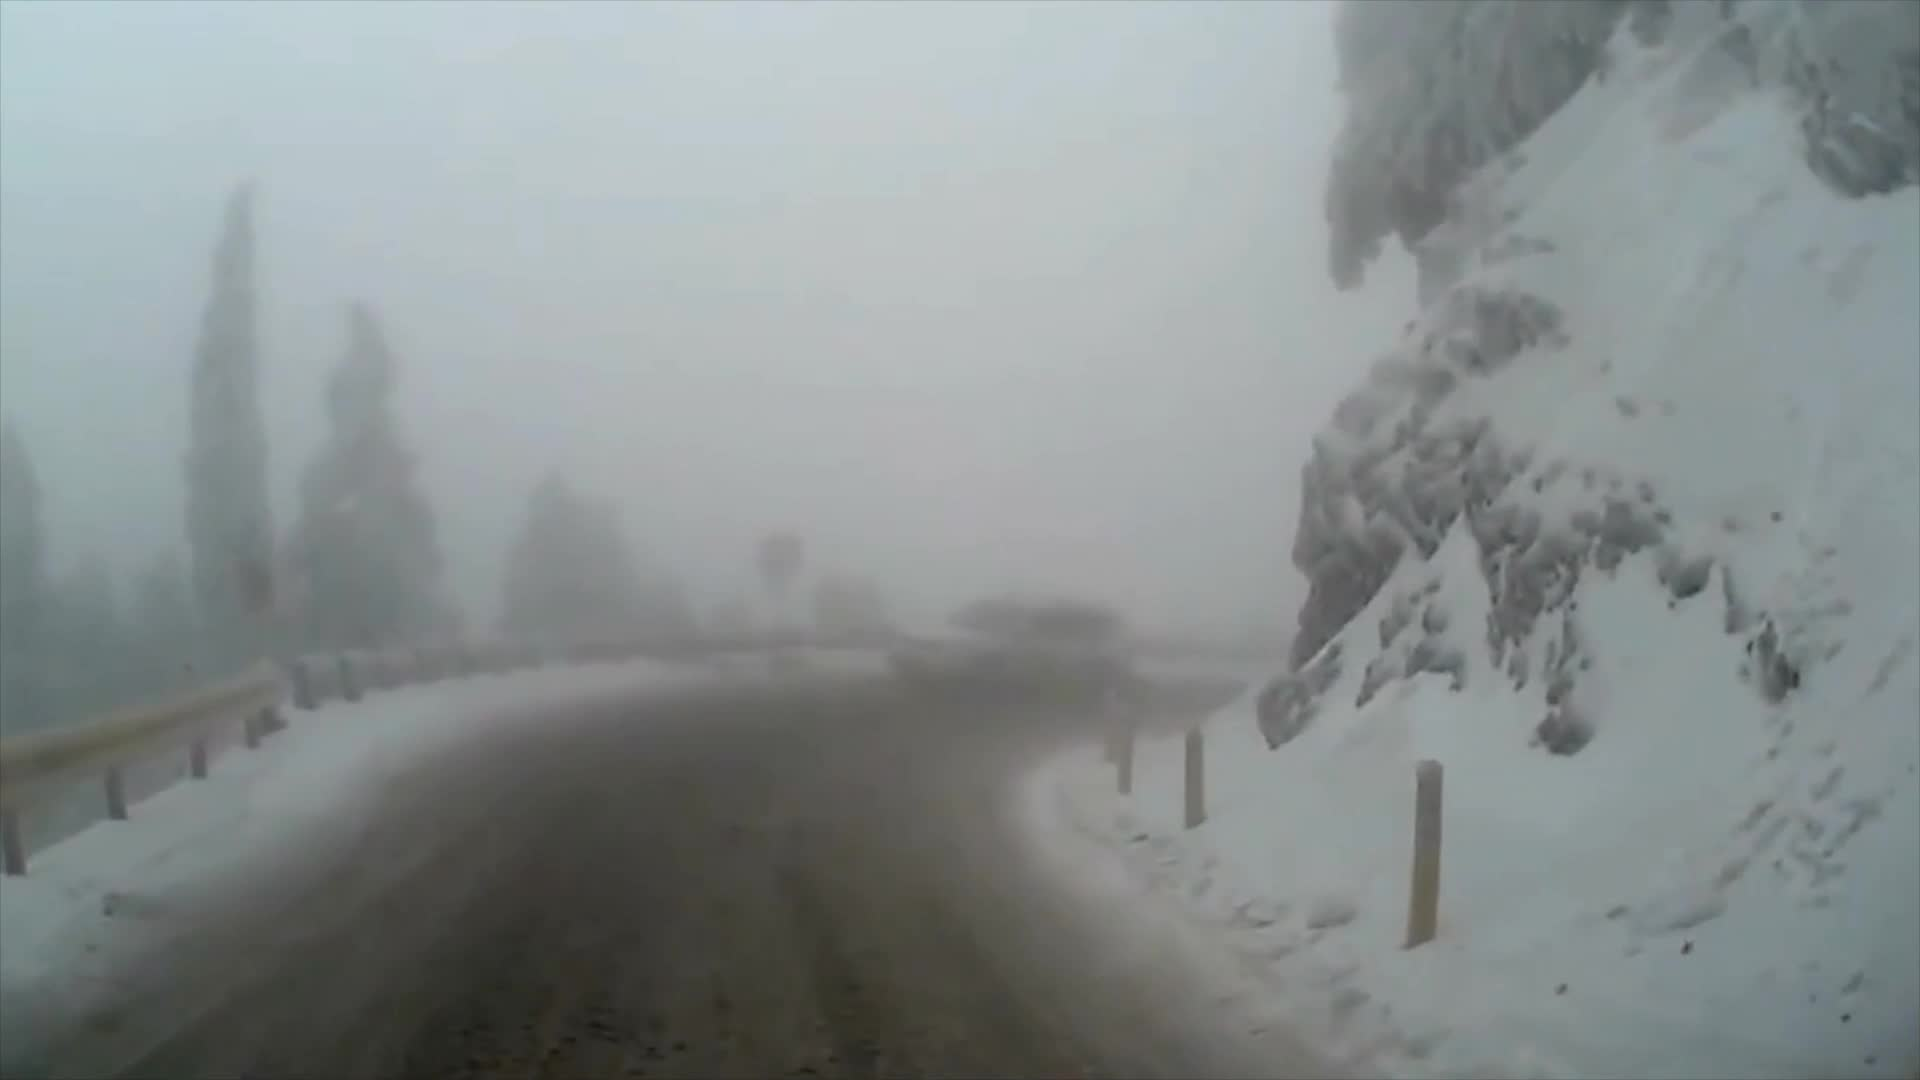vehicle: (880, 593, 1133, 713)
